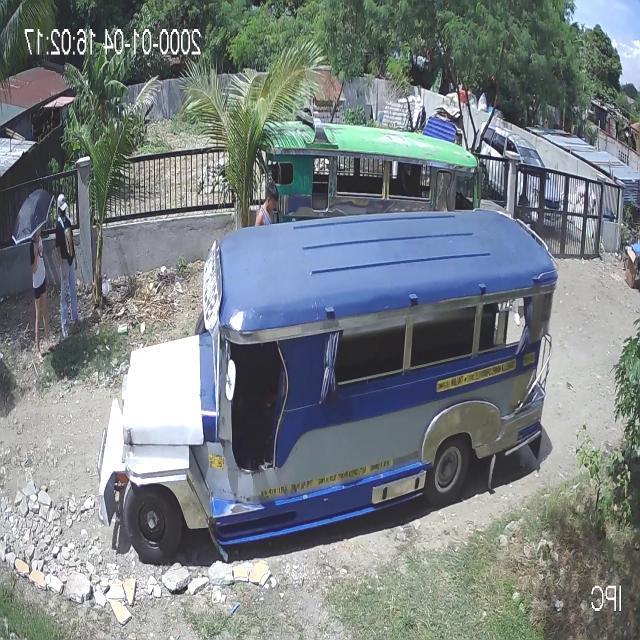standing: (52, 194, 84, 342), (24, 221, 51, 366)
walking: (252, 180, 280, 233)
